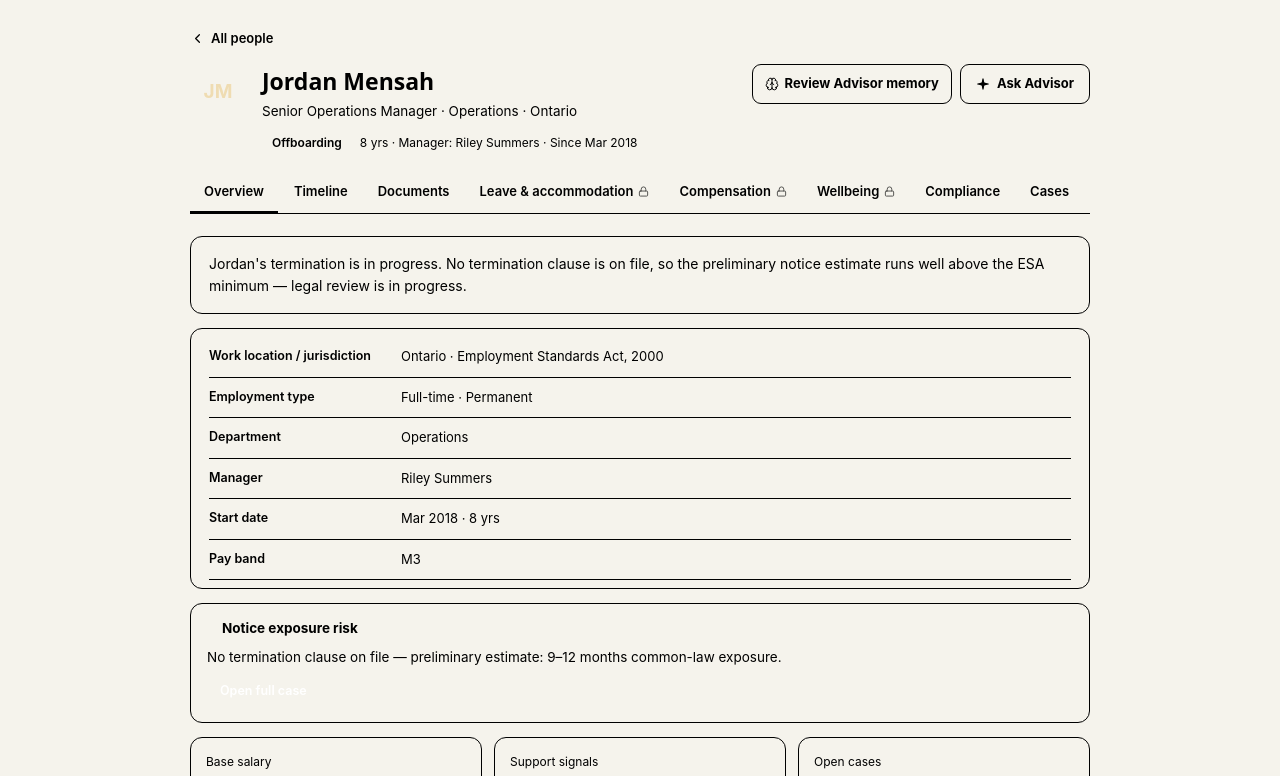
Test: EmployeeProfileView › switches to the compensation tab: salary, market delta and compensation note
Click the tab "Compensation".
click(733, 193)  # box [666,173,801,212]
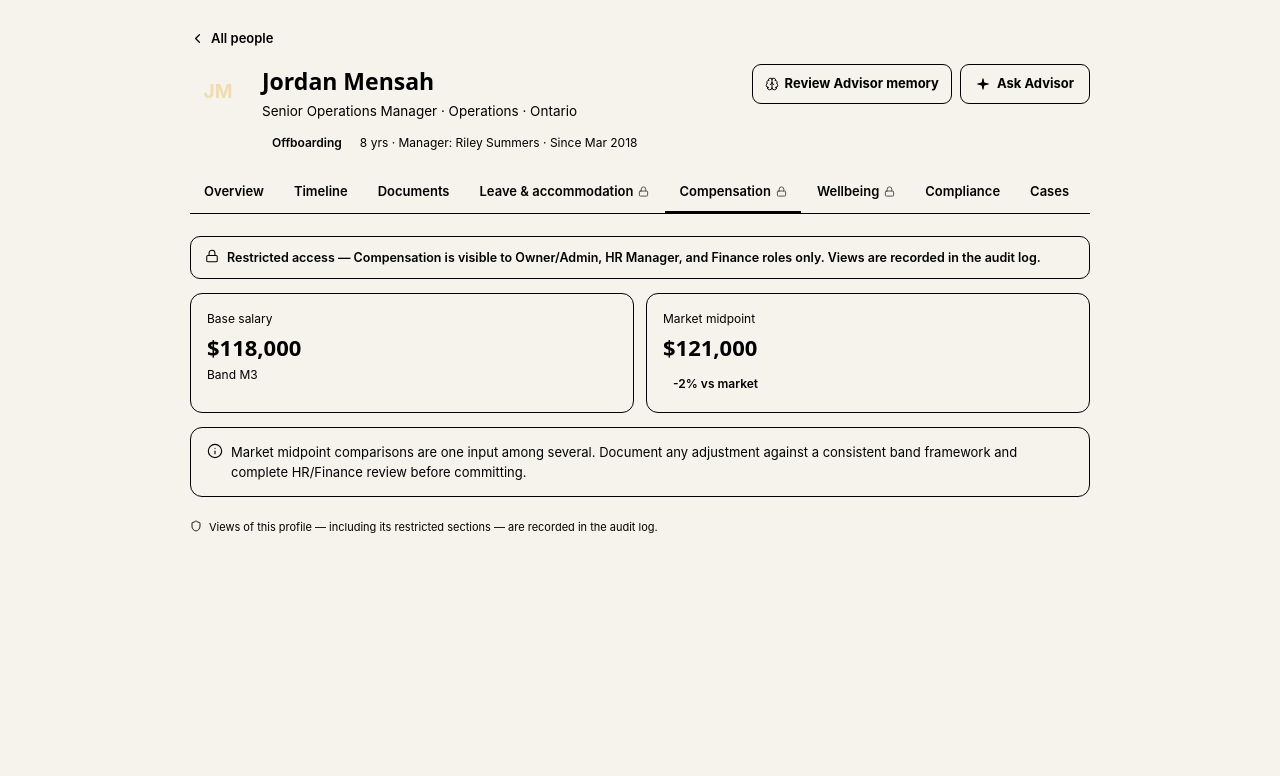
Now the text "$121,000" is shown, box [663,332,757,362]
Now the text "-2% vs market" is shown, box [673,376,758,391]
Now the text "Market midpoint comparisons are one input" is shown, box [231,444,1017,480]
